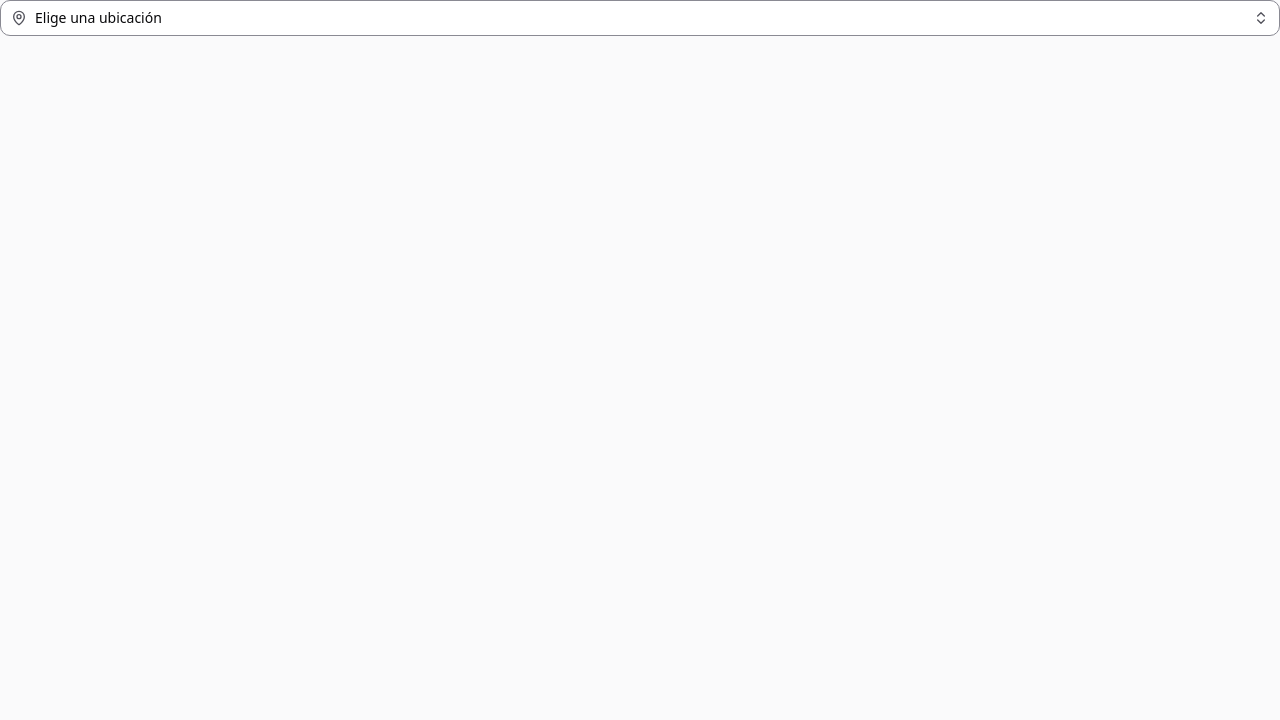
Test: LocationPicker › agrupa por sede y no ofrece sedes ni inactivas (spec 003)
Click the dropdown. click: (98, 18)
box: [0,0,1279,36]
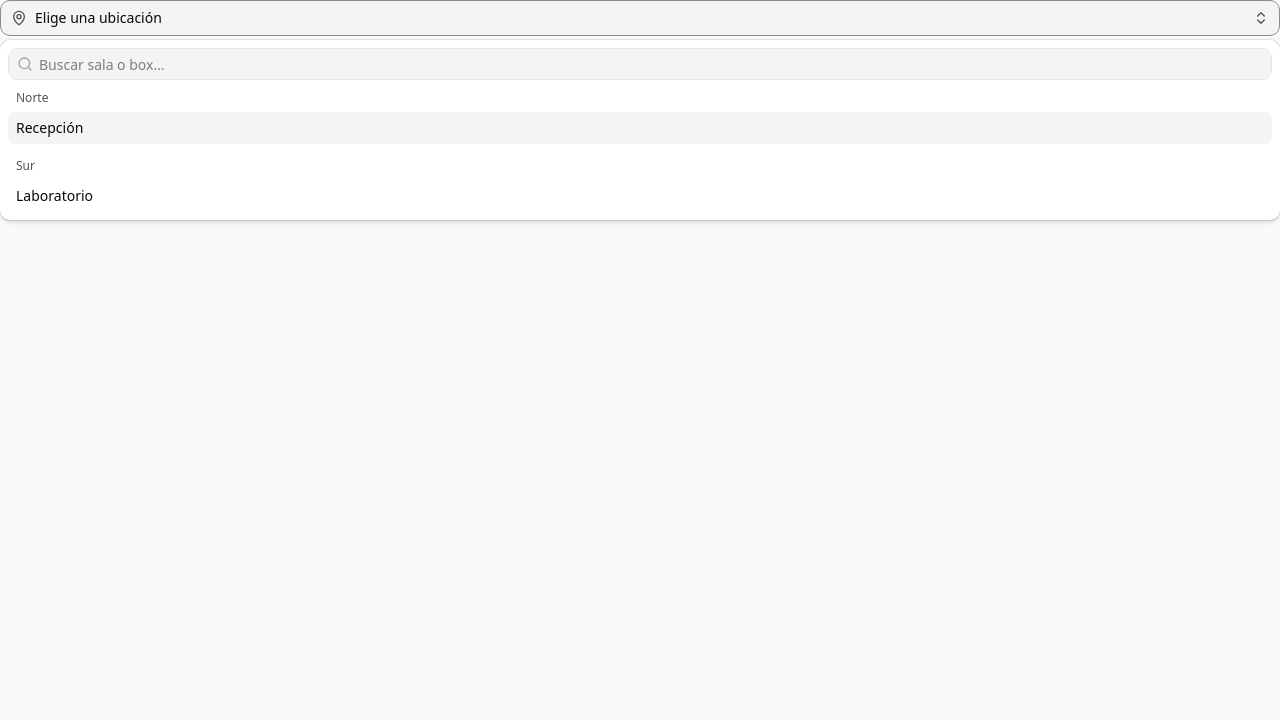
expect the text "Norte" is shown: met, box [16,89,48,106]
expect the text "Sur" is shown: met, box [16,157,35,174]
expect the options read "Recepción", "Laboratorio", in this order: met, box [8,112,1272,144]; [16,186,93,205]
